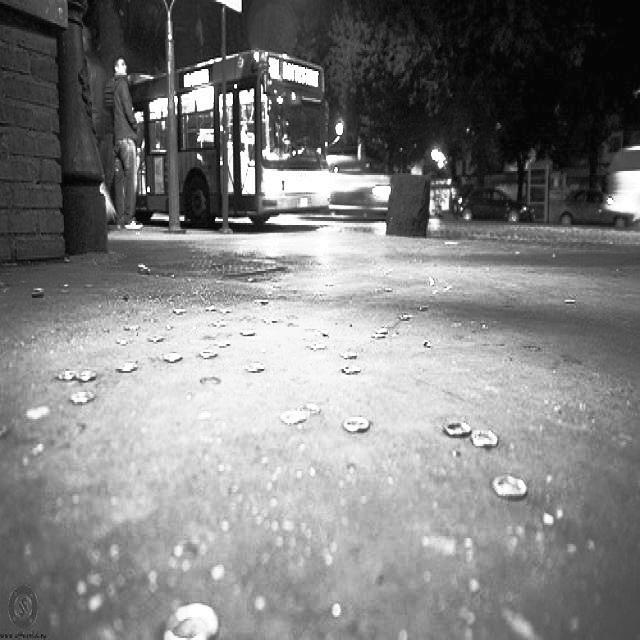Bus: (66, 43, 330, 265)
Car: (321, 155, 404, 226)
